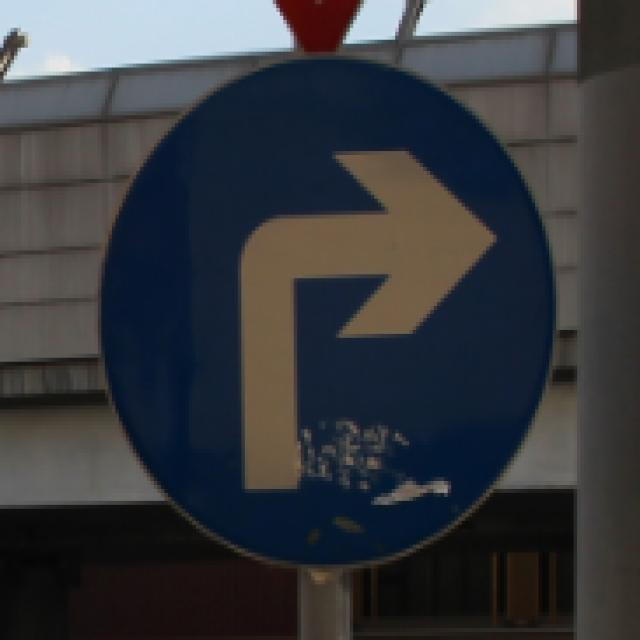Right: (93, 54, 561, 581)
